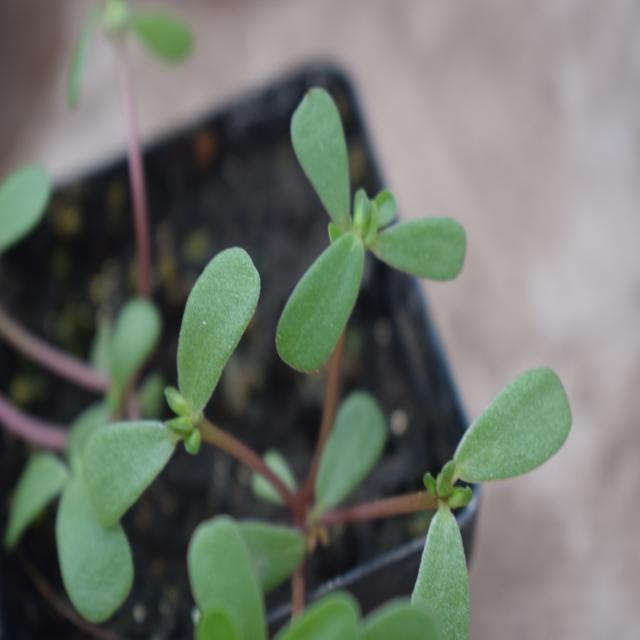purslane: (60, 100, 586, 626)
